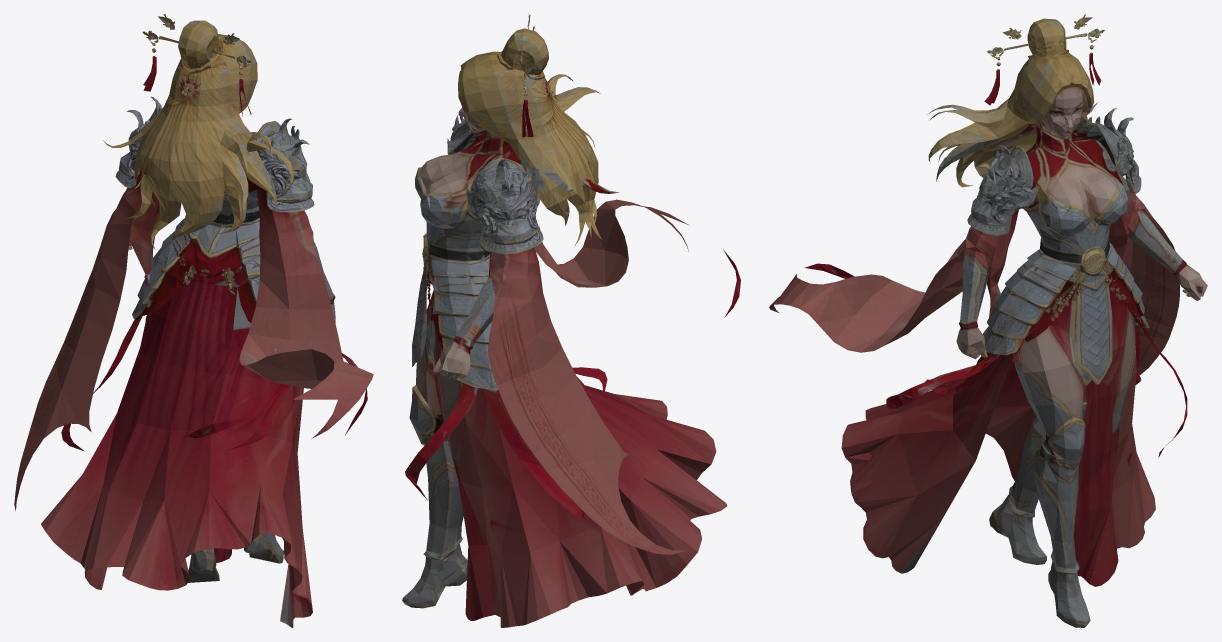
Rendered from hero.glb.
The picture shows the model from 3 angles, left to right: view 1: azimuth 30°, elevation 25°; view 2: azimuth 150°, elevation 25°; view 3: azimuth 270°, elevation 25°; orthographic projection. The views are drawn at different scales.
Visible parts, largest first — view 1: tripo_node_8bc06aa3-7873-4c7f-93df-cd5ea6f00ee1; view 2: tripo_node_8bc06aa3-7873-4c7f-93df-cd5ea6f00ee1; view 3: tripo_node_8bc06aa3-7873-4c7f-93df-cd5ea6f00ee1.
Boxes of the visible parts, x1,y1,x2,y2 form: tripo_node_8bc06aa3-7873-4c7f-93df-cd5ea6f00ee1: (14,14,373,627); tripo_node_8bc06aa3-7873-4c7f-93df-cd5ea6f00ee1: (402,14,740,627); tripo_node_8bc06aa3-7873-4c7f-93df-cd5ea6f00ee1: (769,14,1207,627).
Bounding box in the file's own units: 0.499 × 1 × 0.7104.
1 material, 1 textured.
